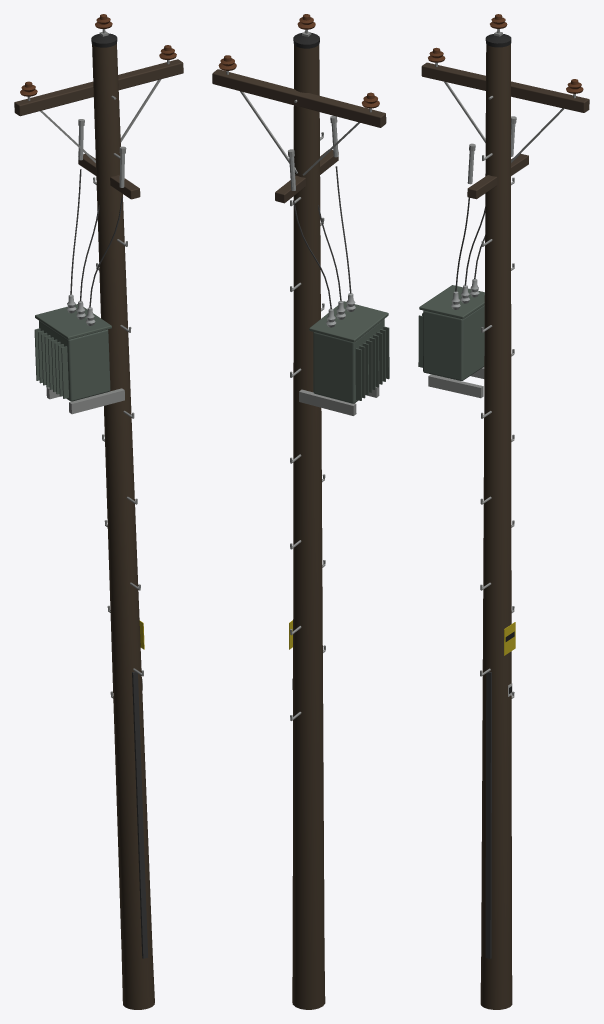
Rendered from SM_Prop_power_pole_2.glb.
3 renders of one model, left to right at view 1: azimuth 30°, elevation 25°; view 2: azimuth 150°, elevation 25°; view 3: azimuth 330°, elevation 25°, orthographic. The views are drawn at different scales.
Visible parts, largest first — view 1: SM_Prop_power_pole_2; view 2: SM_Prop_power_pole_2; view 3: SM_Prop_power_pole_2.
Part boxes in pixels (<box>): SM_Prop_power_pole_2: <box>14,14,183,1009</box>; SM_Prop_power_pole_2: <box>212,14,389,1009</box>; SM_Prop_power_pole_2: <box>418,14,589,1009</box>.
Size of the model in its own units: 1.7 by 9.69 by 0.952.
